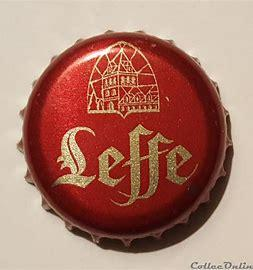metal: (23, 32, 227, 246)
